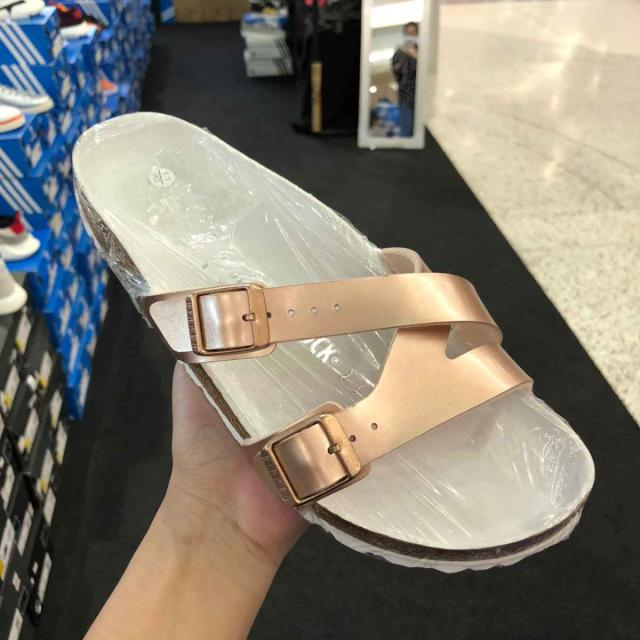Sandals: (25, 68, 606, 596)
